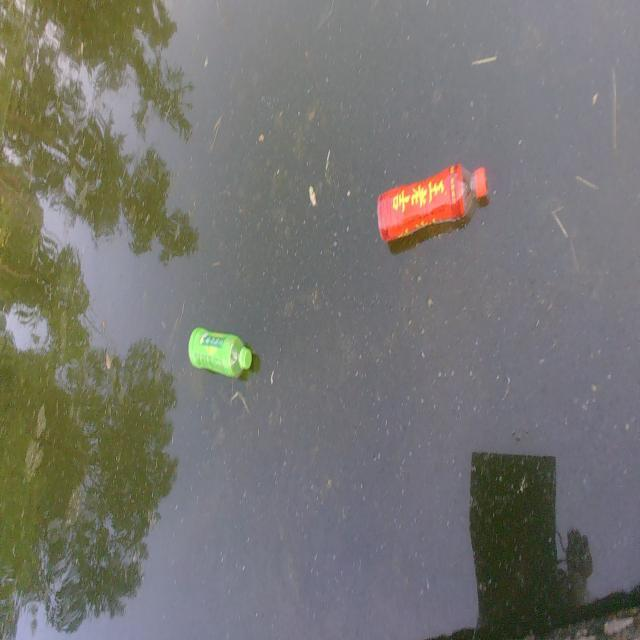bottle: (356, 140, 503, 264), (175, 313, 269, 388)
